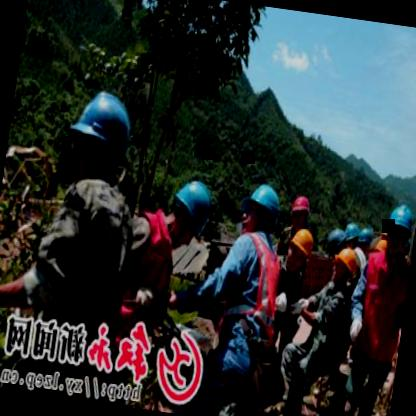helmet: (61, 83, 141, 192), (160, 172, 218, 248), (239, 178, 284, 239), (380, 199, 416, 260), (284, 224, 318, 278), (331, 244, 361, 286), (286, 188, 315, 230), (320, 224, 350, 264), (342, 219, 363, 249)
